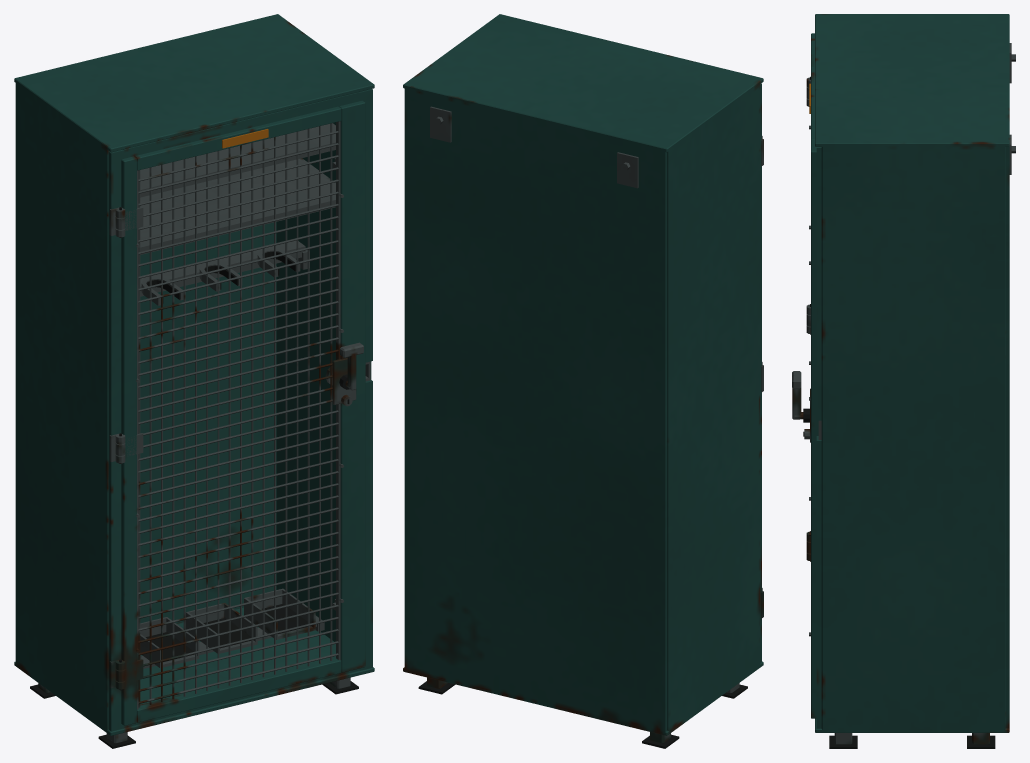
Rendered from mesh_gun_locker.glb.
3 views of the same model, side by side, from view 1: azimuth 30°, elevation 25°; view 2: azimuth 150°, elevation 25°; view 3: azimuth 270°, elevation 25° (orthographic).
Parts seen in each view (by area): view 1: MeshGunLockerBody, MeshGunLockerDoor, MeshGunLockerHandle; view 2: MeshGunLockerBody; view 3: MeshGunLockerBody, MeshGunLockerDoor, MeshGunLockerHandle.
Boxes of the visible parts, <box> form: MeshGunLockerBody: <box>14,14,374,748</box>; MeshGunLockerDoor: <box>115,100,365,725</box>; MeshGunLockerHandle: <box>340,342,363,390</box>; MeshGunLockerBody: <box>403,14,763,748</box>; MeshGunLockerBody: <box>806,14,1015,748</box>; MeshGunLockerDoor: <box>803,33,818,718</box>; MeshGunLockerHandle: <box>792,371,803,419</box>.
Size of what is drawn, in the model's own units: 0.82 by 1.8 by 0.5985.
4 materials, 4 textured.
